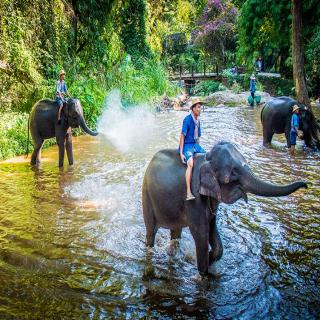Elephant: (140, 134, 308, 285), (22, 96, 104, 174), (260, 94, 320, 156)
